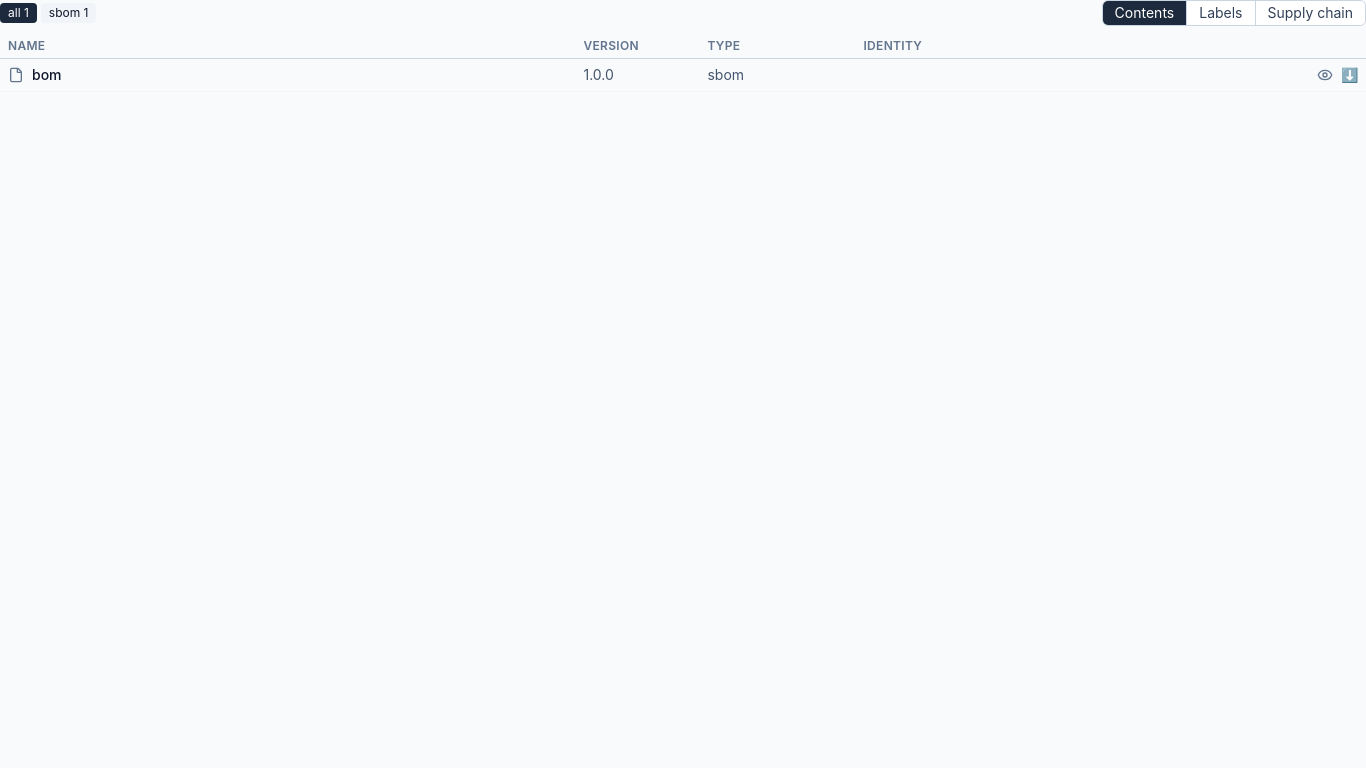
Test: sbom resource eye opens the SBOM viewer
The width and height of the screenshot is (1366, 768).
Expected: the link named "Download bom" is shown, left=1341, top=65, right=1358, bottom=85
What coordinates should you click on to do the following:
click the button named "View bom"
I would click on:
 (1325, 75)
Its box is left=1317, top=67, right=1333, bottom=83.
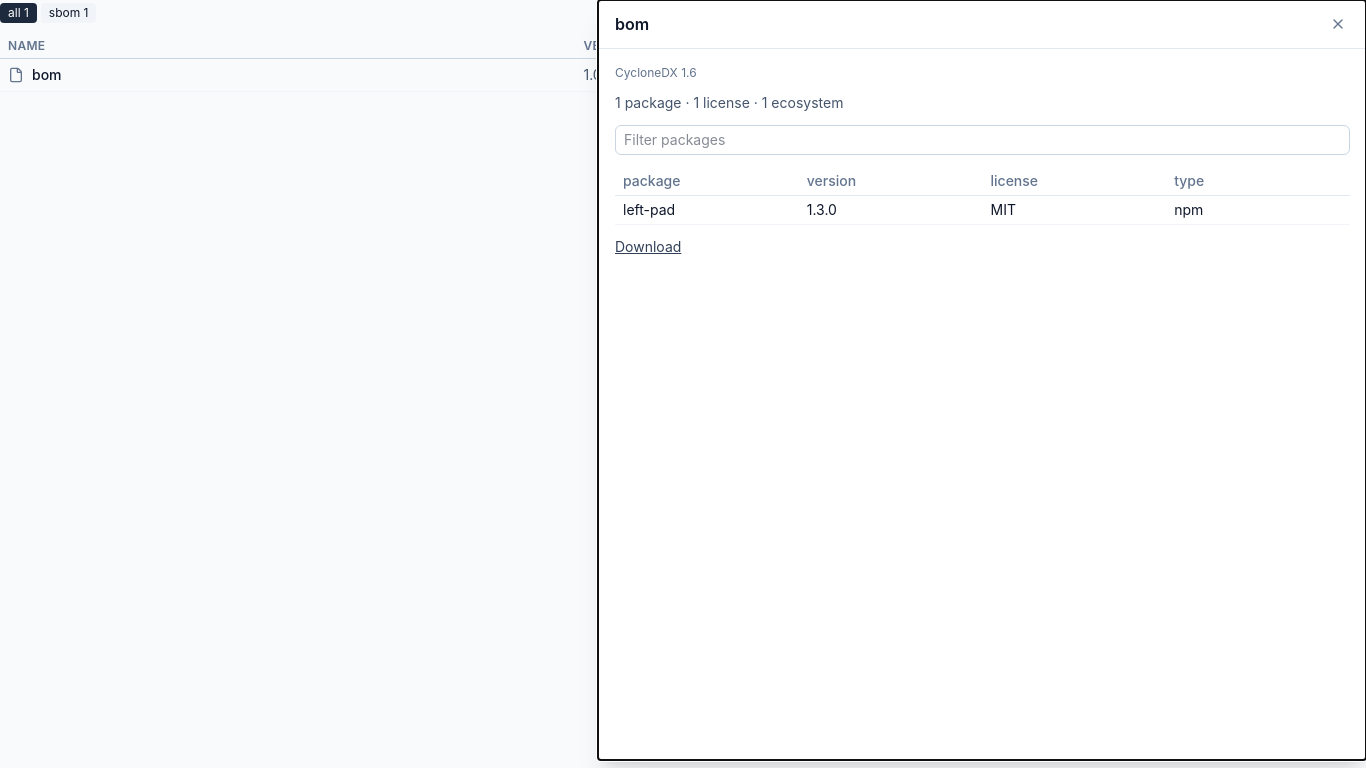
Expected: the text "left-pad" is shown, left=615, top=196, right=799, bottom=224
